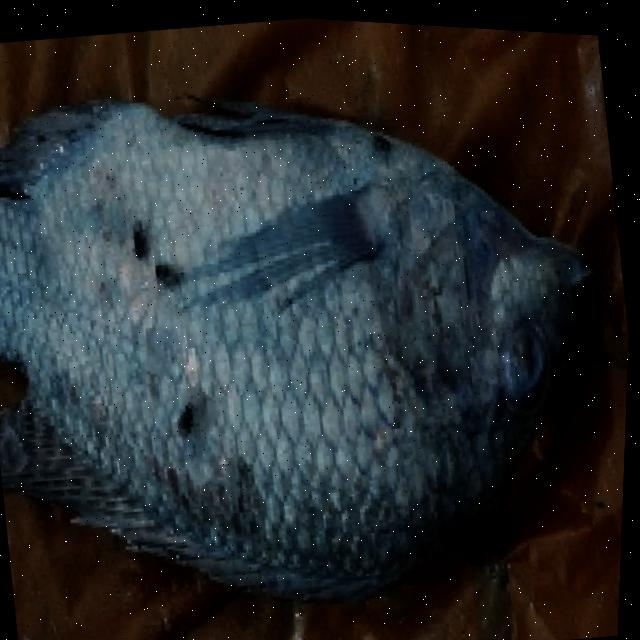Non-Fresh: (0, 79, 603, 554)
